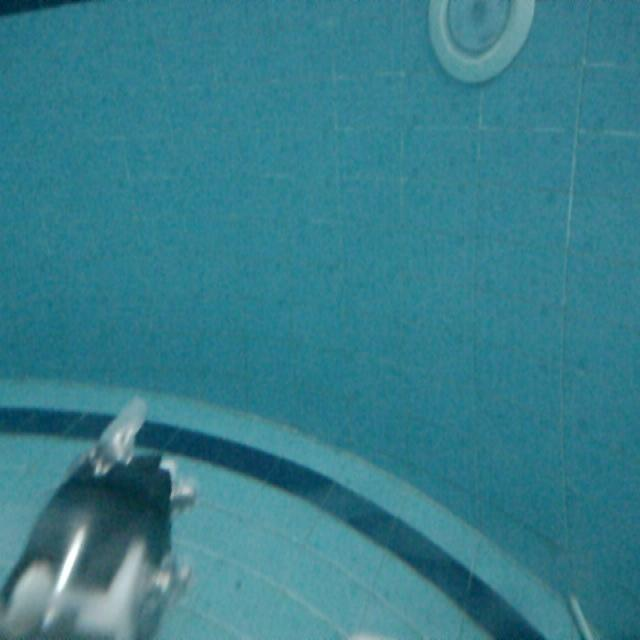Cube: (560, 590, 602, 640)
